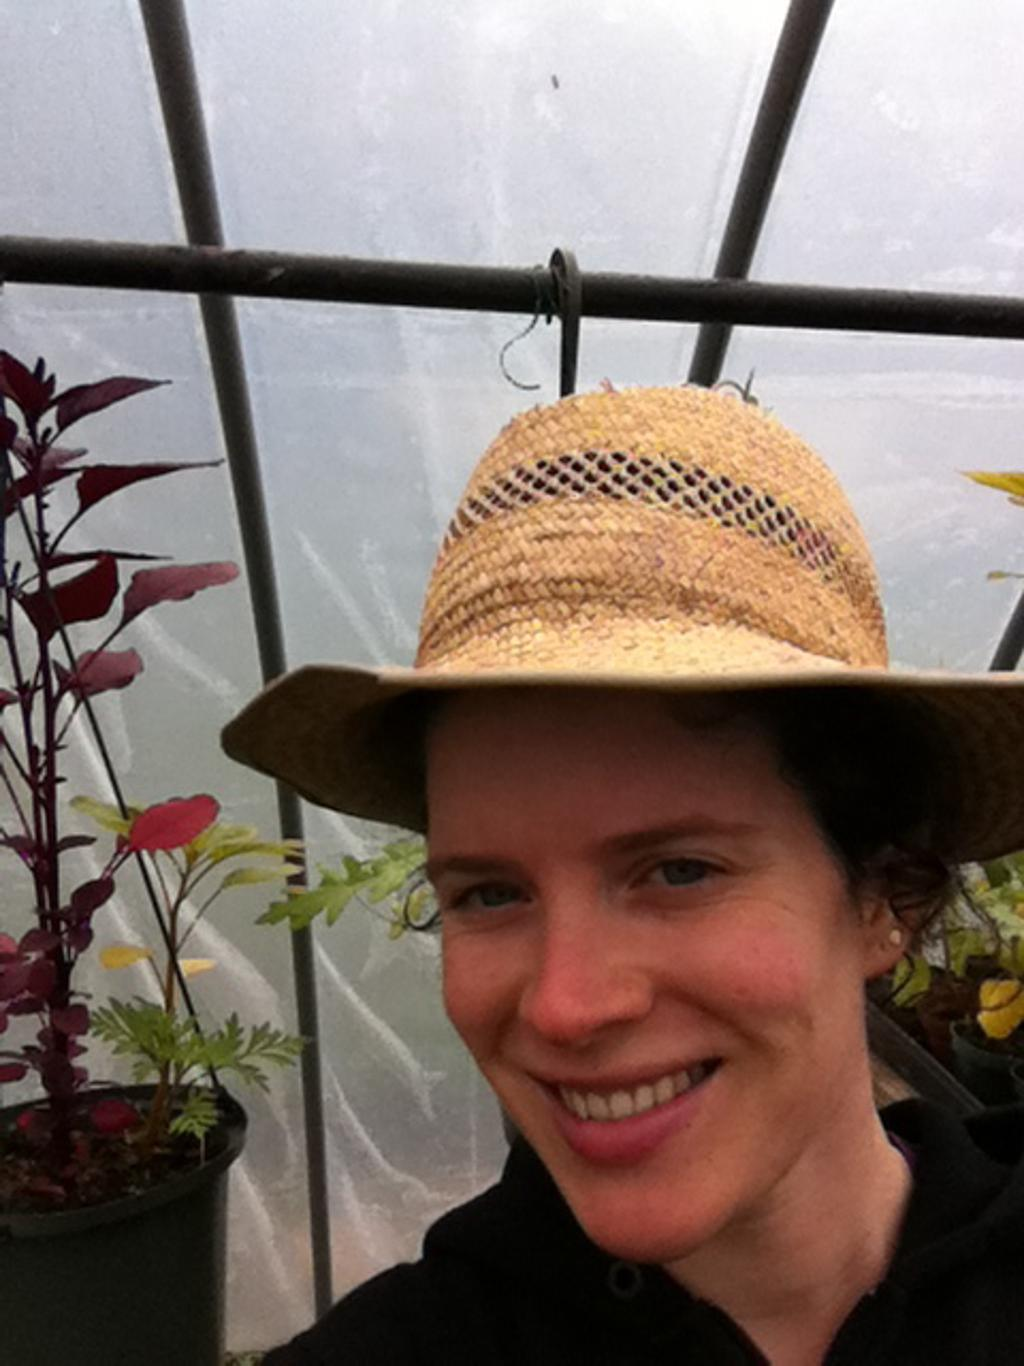face: (419, 664, 862, 1243)
